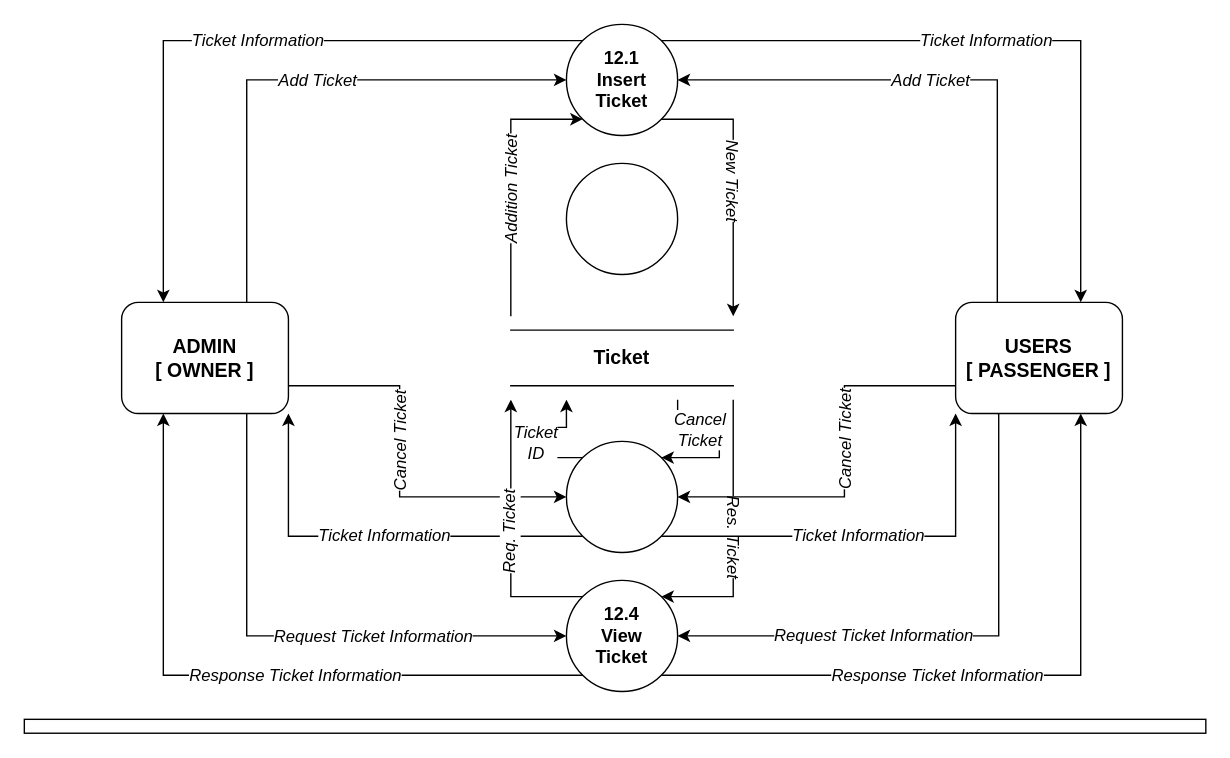
Some shapes in this 1230 by 758 pixel diagram are drawn without their labels. The shapes that lost their labels are listed below. From the top down, each one's centre as x and y in pixels, then its label:
At point (621, 218): "12.2 Update Ticket".
At point (621, 496): "12.3 Cancel Ticket".
